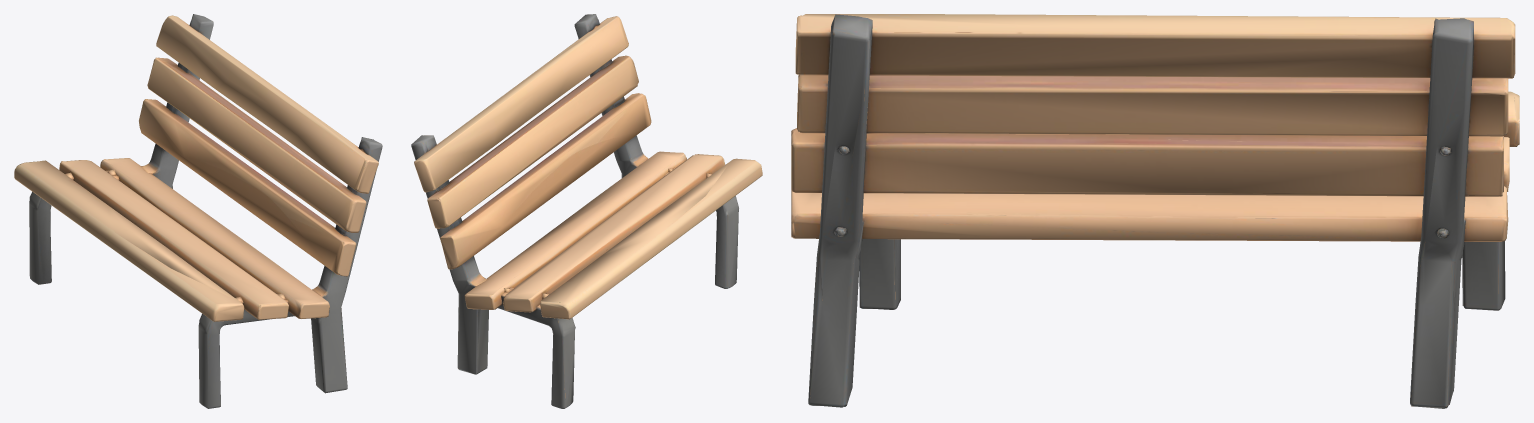
The model's file is selected.glb.
3 views of the same model, side by side, from view 1: azimuth 30°, elevation 25°; view 2: azimuth 150°, elevation 25°; view 3: azimuth 270°, elevation 25° (orthographic). The views are drawn at different scales.
Parts seen in each view (by area): view 1: tripo_node_75f84f2e-946e-474c-a1d2-4f78429cf813; view 2: tripo_node_75f84f2e-946e-474c-a1d2-4f78429cf813; view 3: tripo_node_75f84f2e-946e-474c-a1d2-4f78429cf813.
Part boxes in pixels (bbox=[...]): tripo_node_75f84f2e-946e-474c-a1d2-4f78429cf813: bbox=[14, 14, 382, 408]; tripo_node_75f84f2e-946e-474c-a1d2-4f78429cf813: bbox=[411, 14, 762, 408]; tripo_node_75f84f2e-946e-474c-a1d2-4f78429cf813: bbox=[791, 14, 1519, 408].
Size of the model in its own units: 0.502 by 0.6348 by 0.998.
1 material, 1 textured.
